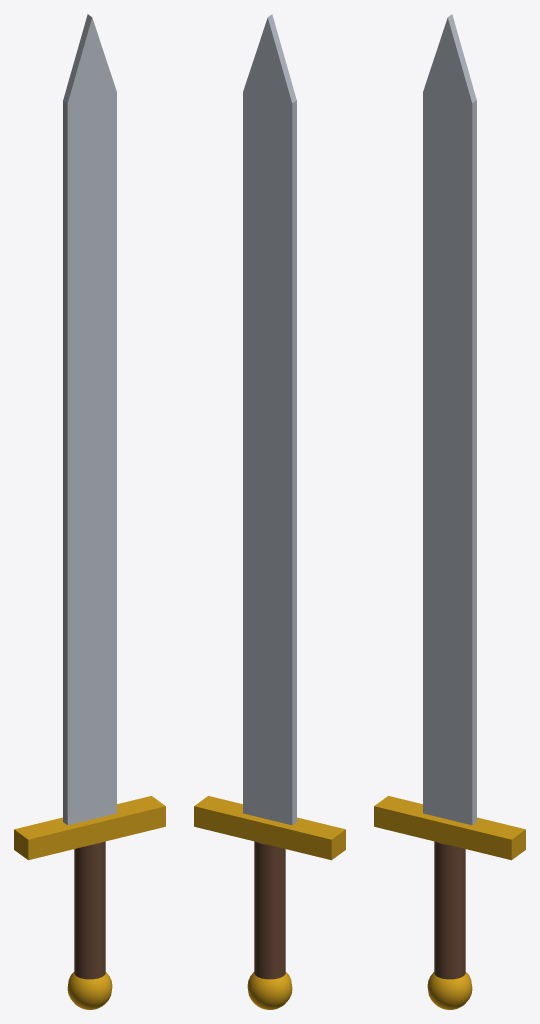
File: sword1.glb
3 views of the same model, side by side, from view 1: azimuth 30°, elevation 25°; view 2: azimuth 150°, elevation 25°; view 3: azimuth 330°, elevation 25° (orthographic).
Visible parts, largest first — view 1: plate, box, cyl, sph; view 2: plate, box, cyl, sph; view 3: plate, box, cyl, sph.
Boxes of the visible parts, x1,y1,x2,y2 form: plate: (63,14,116,825); box: (14,796,165,860); cyl: (74,841,105,979); sph: (67,972,112,1009); plate: (243,14,296,825); box: (194,796,345,860); cyl: (254,841,285,979); sph: (247,972,292,1009); plate: (423,14,476,825); box: (374,796,525,860); cyl: (434,841,465,979); sph: (427,972,472,1009).
Size of the model in its own units: 0.14 by 0.965 by 0.04.
